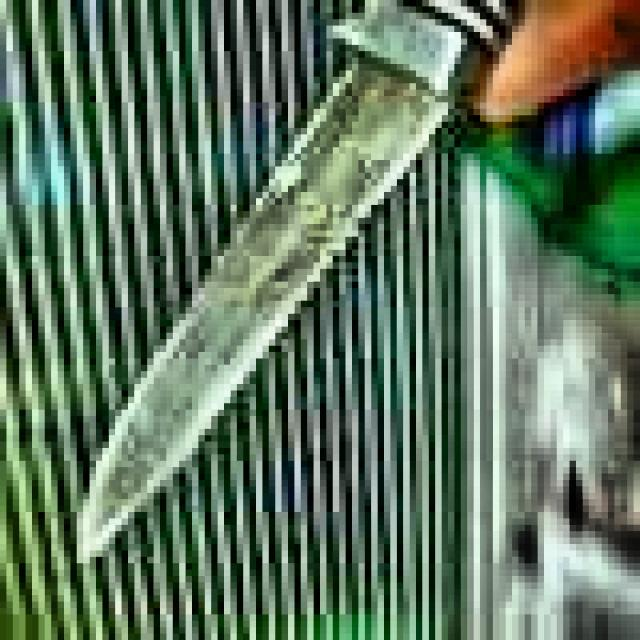knife: (78, 1, 520, 570)
